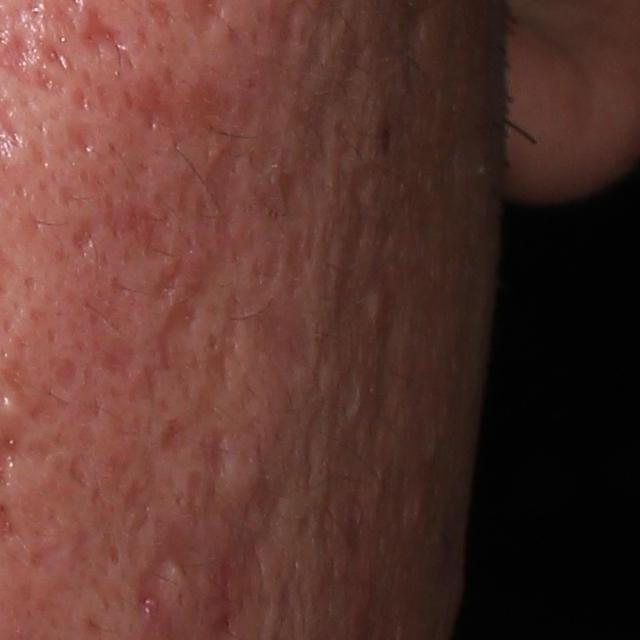atrophic_scar: (133, 469, 224, 620), (182, 127, 251, 299), (167, 292, 241, 444), (248, 226, 323, 368), (110, 194, 175, 267), (1, 364, 67, 432), (157, 298, 201, 375), (138, 76, 186, 136), (240, 454, 278, 527), (66, 214, 104, 260), (65, 118, 104, 161), (196, 429, 232, 473), (51, 354, 83, 394), (66, 451, 90, 486)
